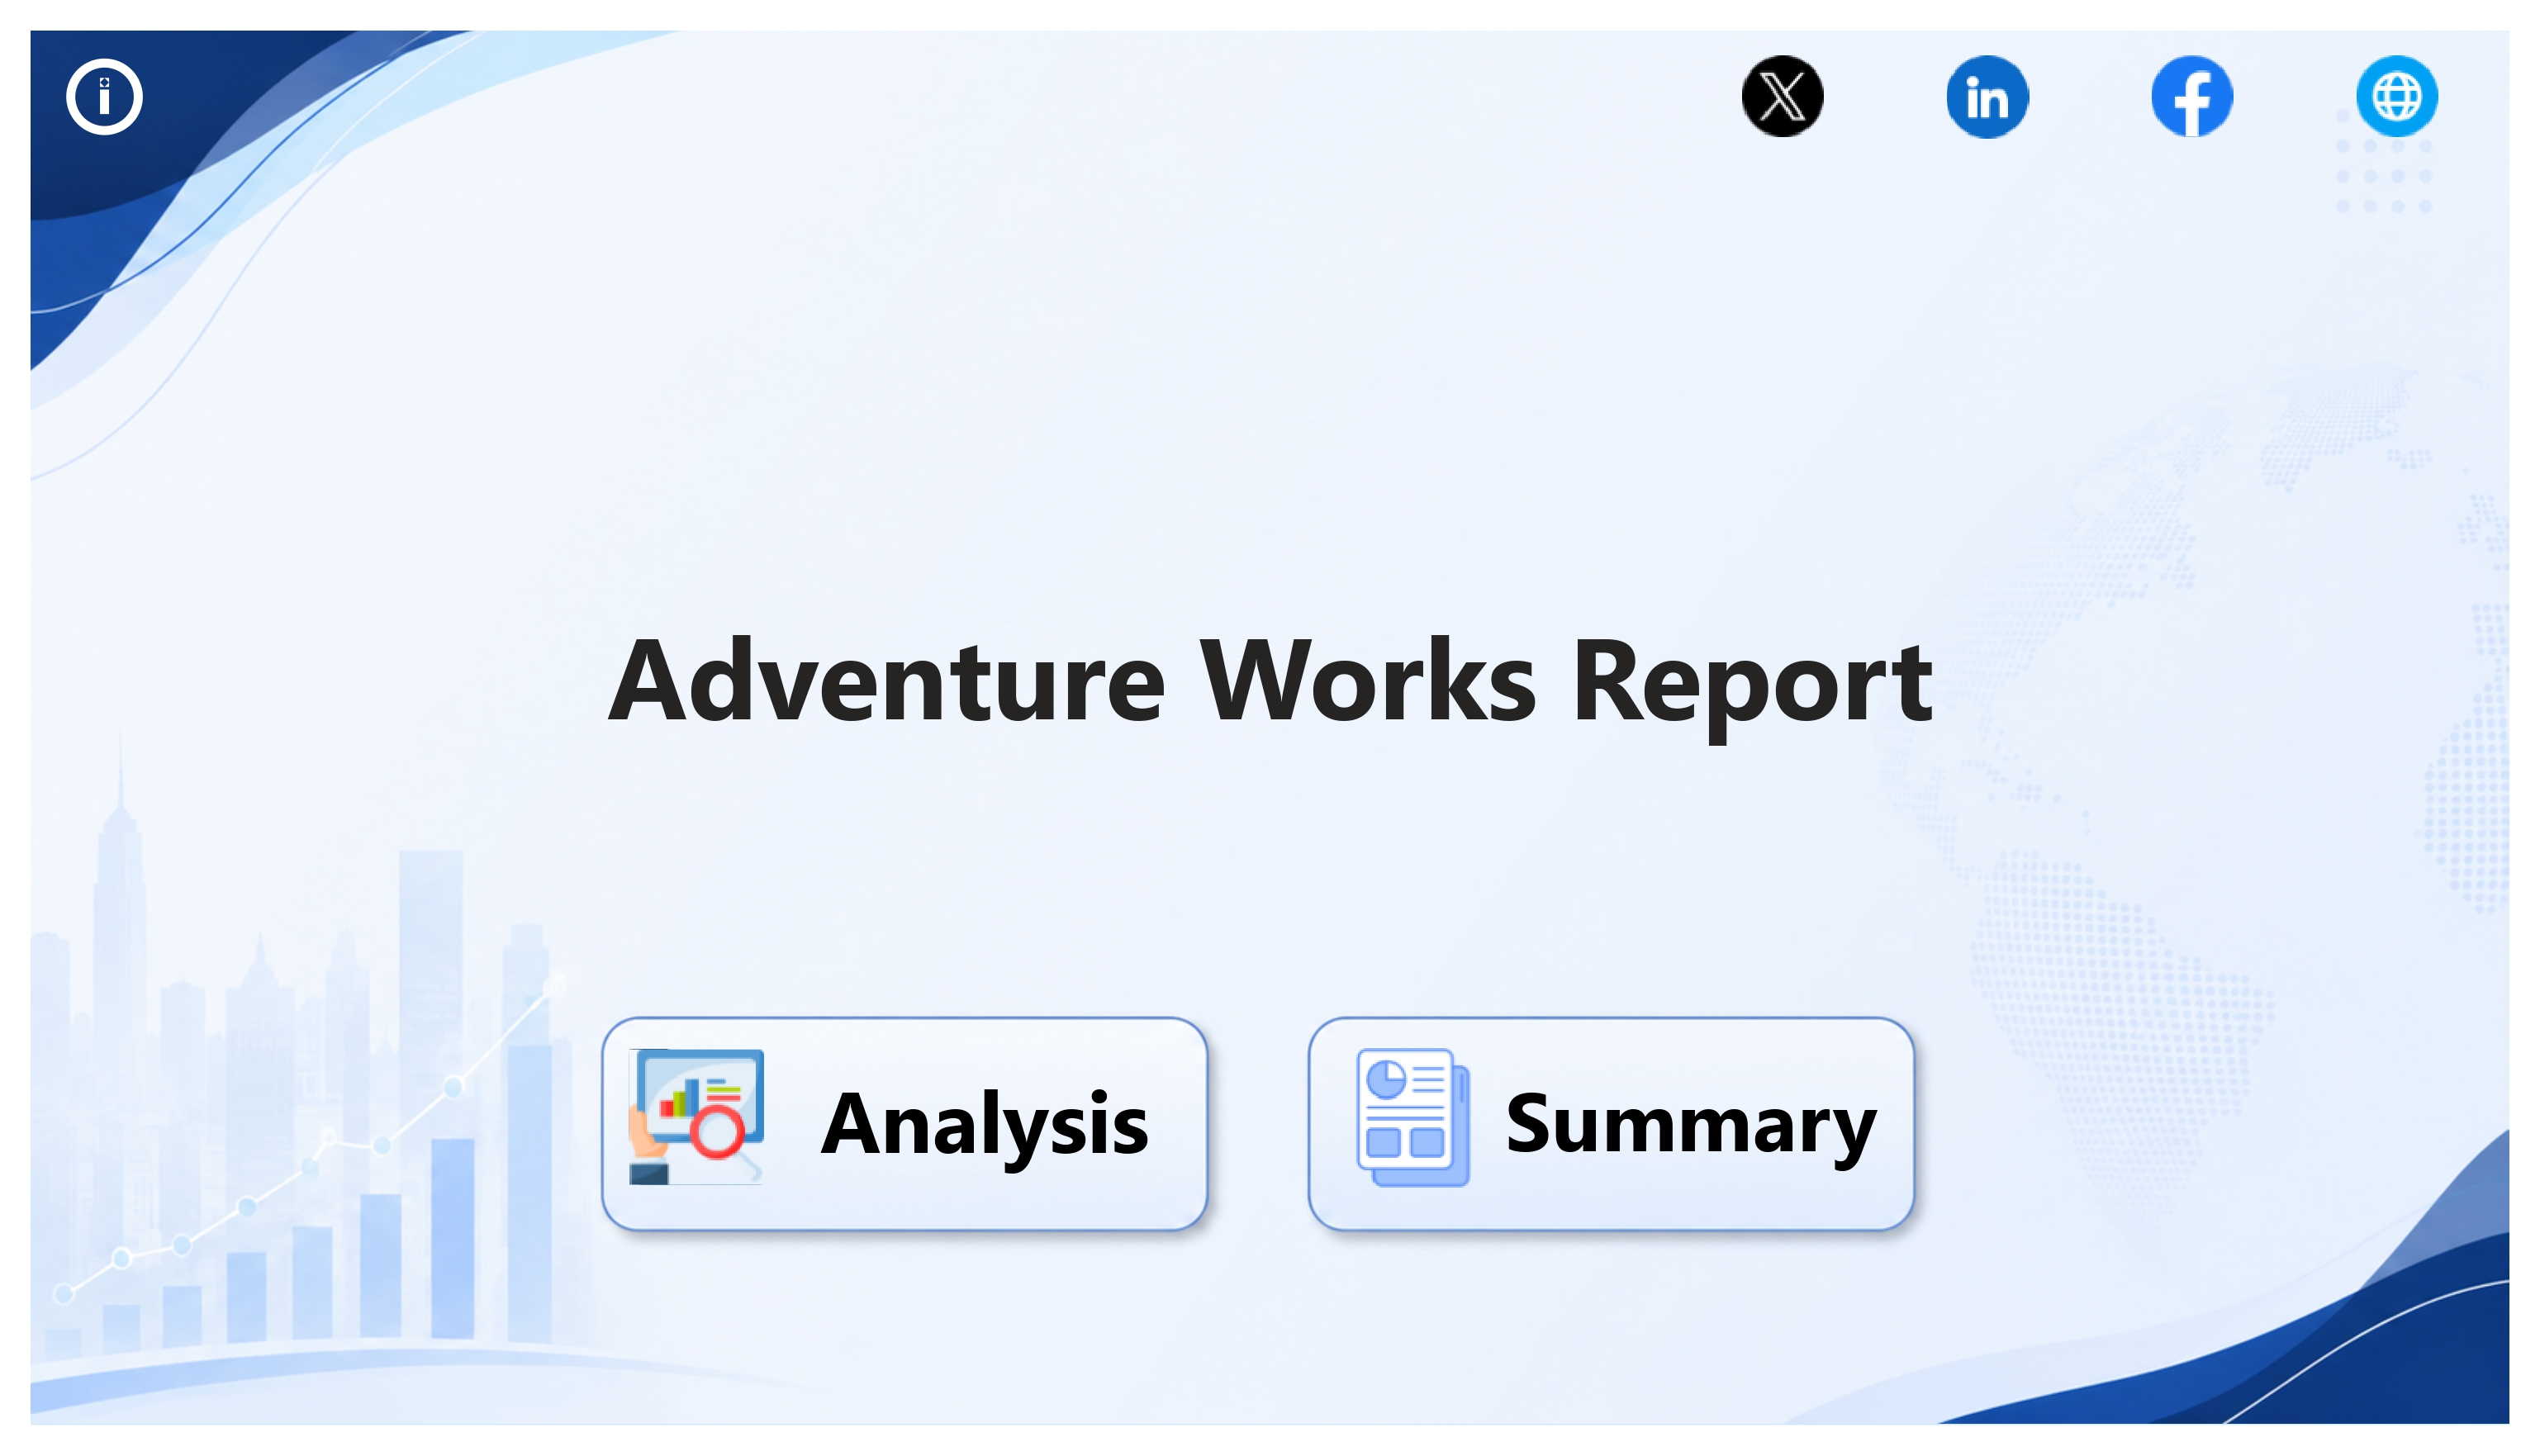

The page's visual inventory and layout, read from the dashboard file:
{"tool":"powerbi","page":{"name":"Home ","canvas":[1920,1080],"ordinal":0},"visuals":[{"type":"textbox","box":[397.5,417.5,1125,245],"z":0},{"type":"actionButton","box":[1786.8,15.3,93,71],"z":1000},{"type":"actionButton","box":[1628.3,15.3,93,71],"z":2000},{"type":"actionButton","box":[1469.4,15,93.3,71.7],"z":3000},{"type":"actionButton","box":[1310.9,15.3,93,71],"z":4000},{"type":"actionButton","box":[22,16,94,70],"z":5000},{"type":"actionButton","box":[442.5,772.5,145,137.5],"z":7001},{"type":"actionButton","box":[587.5,772.5,302.5,137.5],"z":7002},{"type":"actionButton","box":[997.5,772.5,145,137.5],"z":7003},{"type":"actionButton","box":[1135,772.5,302.5,137.5],"z":7004}]}

Visuals, with their boxes on the page's 1920x1080 design canvas (x1, y1, x2, y2). These are canvas units, not pixel positions in the 2540x1456 screenshot, which may show the page scaled, cropped or inside an application window:
textbox: box(398, 418, 1522, 662)
actionButton: box(1787, 15, 1880, 86)
actionButton: box(1628, 15, 1721, 86)
actionButton: box(1469, 15, 1563, 87)
actionButton: box(1311, 15, 1404, 86)
actionButton: box(22, 16, 116, 86)
actionButton: box(442, 772, 588, 910)
actionButton: box(588, 772, 890, 910)
actionButton: box(998, 772, 1142, 910)
actionButton: box(1135, 772, 1438, 910)
